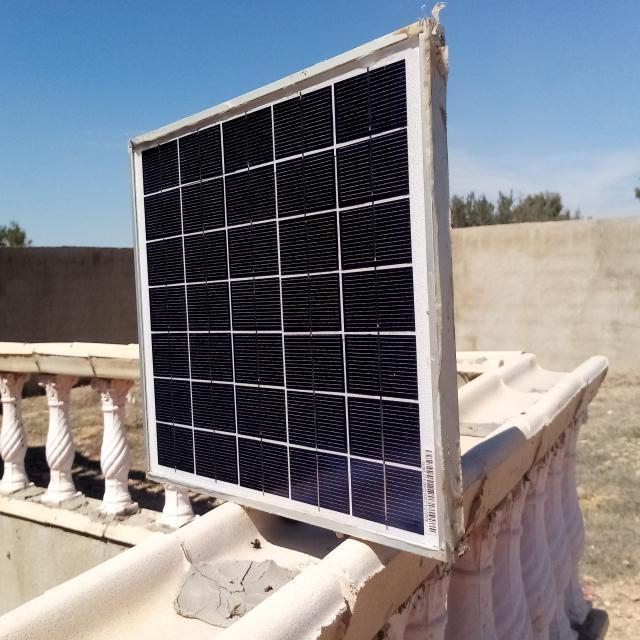no faulty: (134, 29, 445, 562)
